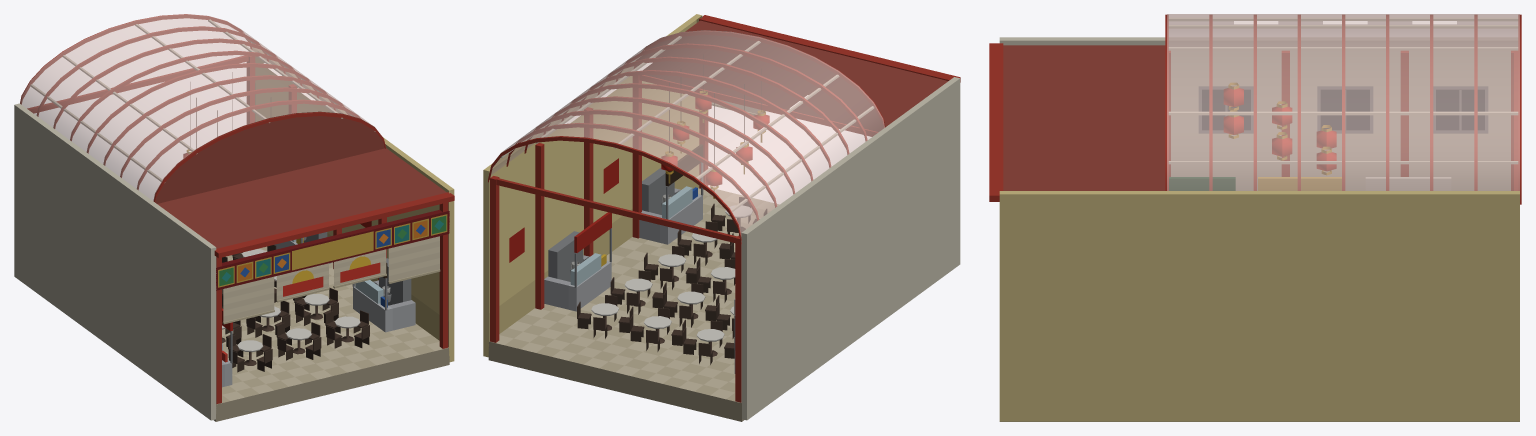
The picture shows the model from 3 angles, left to right: view 1: azimuth 30°, elevation 25°; view 2: azimuth 150°, elevation 25°; view 3: azimuth 270°, elevation 25°; orthographic projection. The views are drawn at different scales.
Parts seen in each view (by area): view 1: lau-ya-keng-food-court-lod0; view 2: lau-ya-keng-food-court-lod0; view 3: lau-ya-keng-food-court-lod0.
Part boxes in pixels (<box>): lau-ya-keng-food-court-lod0: <box>14,14,454,421</box>; lau-ya-keng-food-court-lod0: <box>483,14,960,421</box>; lau-ya-keng-food-court-lod0: <box>989,14,1521,421</box>.
Bounding box in the file's own units: 10 × 9 × 14.32.
